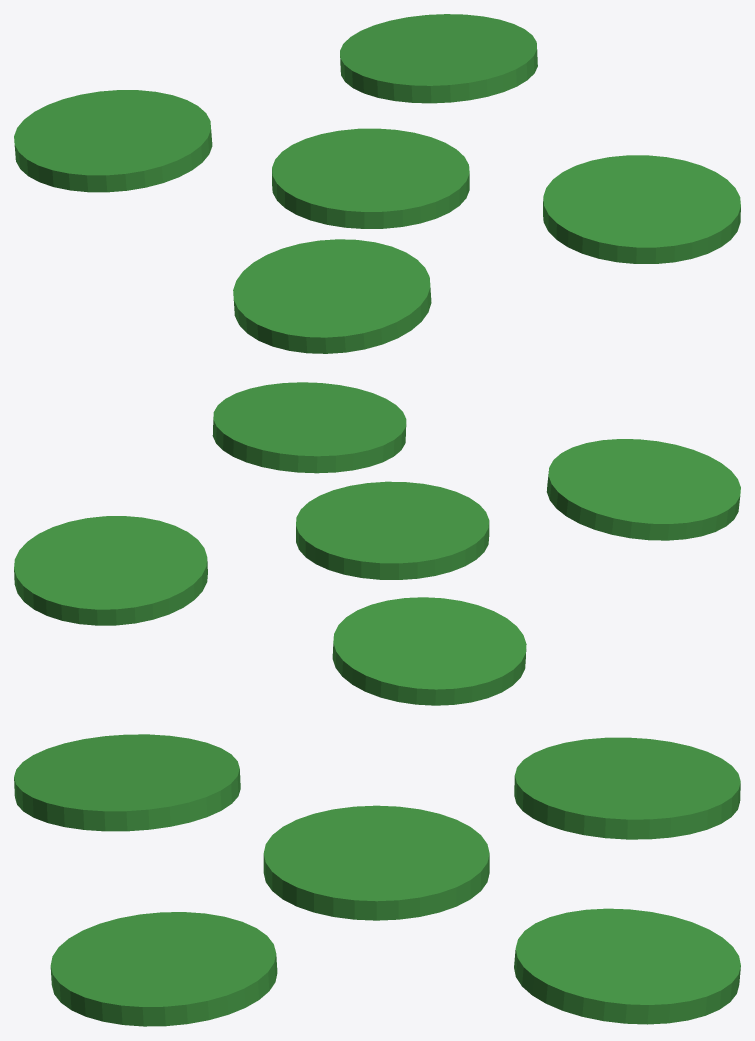
The model's file is pepinillos.glb.
3 views of the same model, one above another, from view 1: azimuth 30°, elevation 25°; view 2: azimuth 150°, elevation 25°; view 3: azimuth 270°, elevation 25° (orthographic). The views are drawn at different scales.
Parts seen in each view (by area): view 1: pepinillos.001; view 2: pepinillos.001; view 3: pepinillos.001.
Boxes of the visible parts, x1=… form: pepinillos.001: x1=14, y1=14, x2=740, y2=353; pepinillos.001: x1=14, y1=382, x2=740, y2=705; pepinillos.001: x1=14, y1=734, x2=740, y2=1026.
Bounding box in the file's own units: 1.69 × 0.121 × 1.88.
